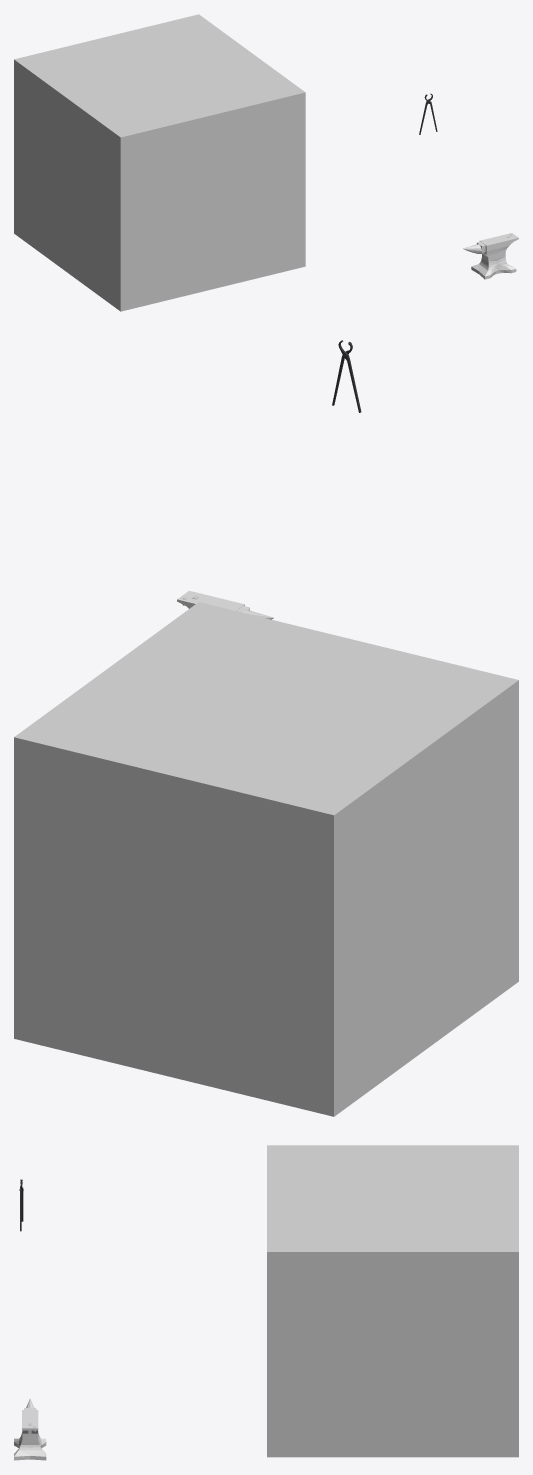
File: bolttongopen.dae
The picture shows the model from 3 angles, top to bottom: view 1: azimuth 30°, elevation 25°; view 2: azimuth 150°, elevation 25°; view 3: azimuth 270°, elevation 25°; orthographic projection. The views are drawn at different scales.
Visible parts, largest first — view 1: Cube_004, Cube_002; view 2: Cube_004; view 3: Cube_004, Cube_002.
Part boxes in pixels (<box>): Cube_004: <box>14,14,305,311</box>; Cube_002: <box>463,233,518,279</box>; Cube_004: <box>14,602,518,1116</box>; Cube_004: <box>267,1145,518,1457</box>; Cube_002: <box>14,1398,46,1460</box>.
Bounding box in the file's own units: 3.18 × 4.01 × 2.52.
1 material, 1 textured.
